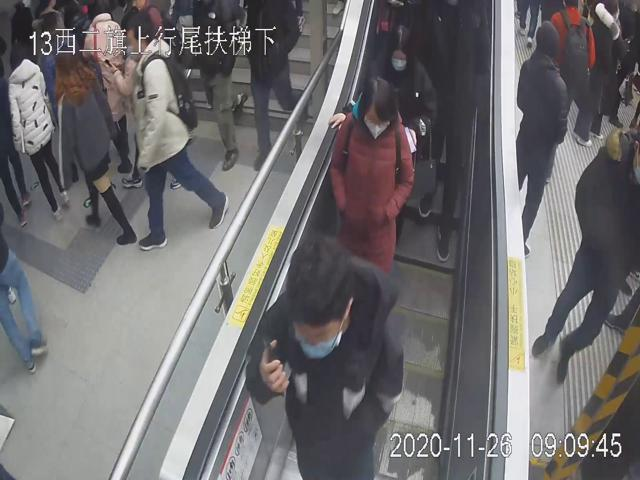person: (243, 228, 403, 480), (327, 22, 438, 204), (329, 71, 416, 278), (52, 38, 137, 246), (514, 18, 569, 255)
